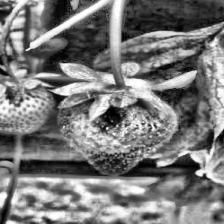Powdery Mildew Fruit: (56, 90, 162, 160)
